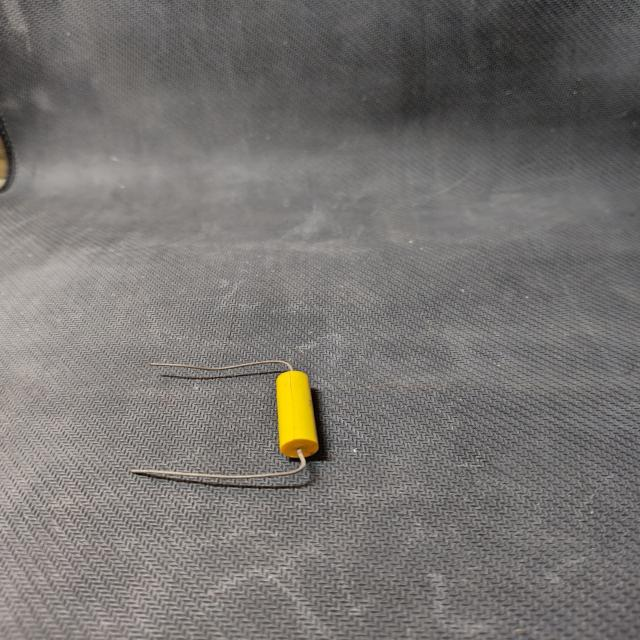capacitor: (130, 360, 322, 490)
